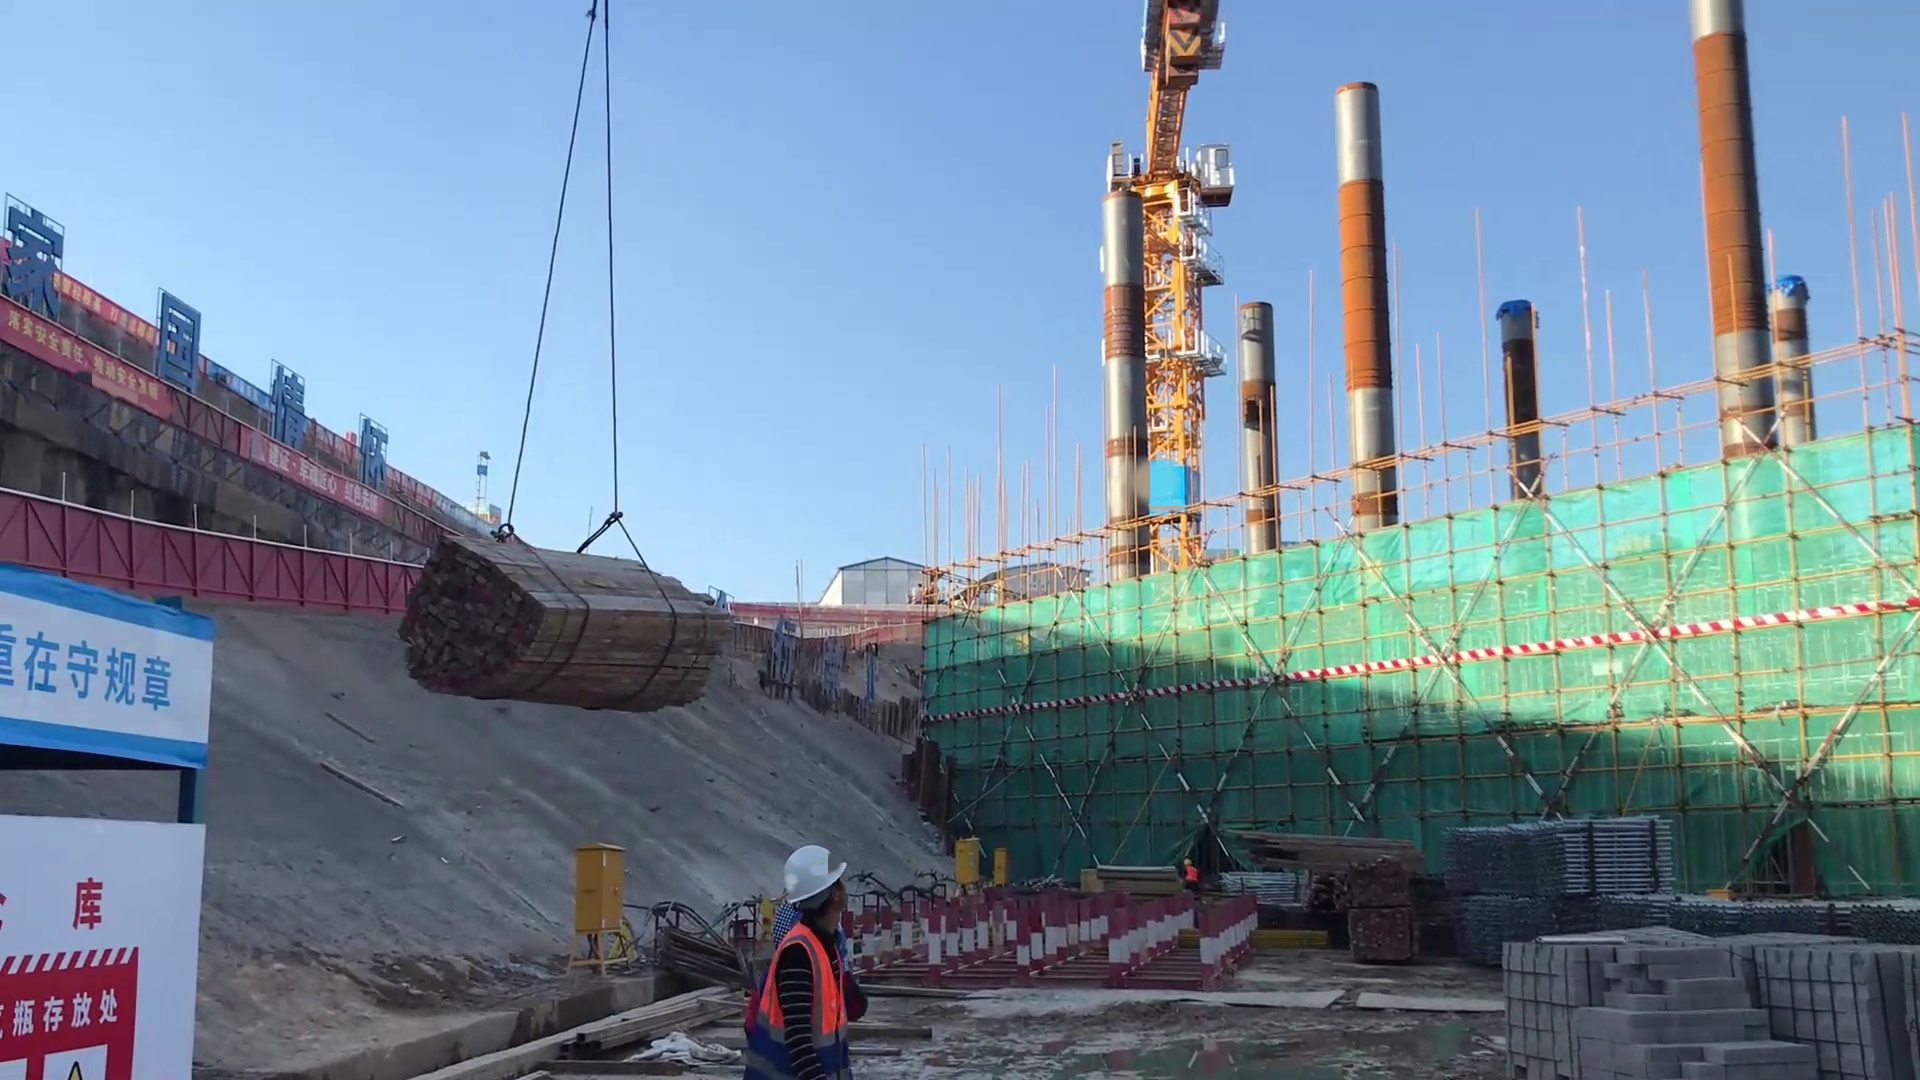brick: (1509, 930, 1917, 1080)
ebox: (566, 835, 644, 982), (945, 831, 990, 913), (981, 846, 1027, 901)
fence: (4, 487, 390, 620)
helmet: (776, 843, 848, 902), (1182, 857, 1195, 868)
person: (749, 843, 863, 1078), (1183, 858, 1201, 892)
scaffold: (1455, 894, 1920, 978), (1440, 816, 1687, 895)
slogan: (1, 819, 225, 1077), (1, 578, 233, 751), (8, 305, 172, 438), (242, 436, 403, 528), (58, 262, 161, 359)
vest: (755, 916, 855, 1078), (1183, 864, 1199, 888)
wood: (393, 538, 722, 714), (1223, 824, 1428, 880), (1094, 853, 1188, 903), (1349, 906, 1424, 965), (1333, 860, 1421, 909)
